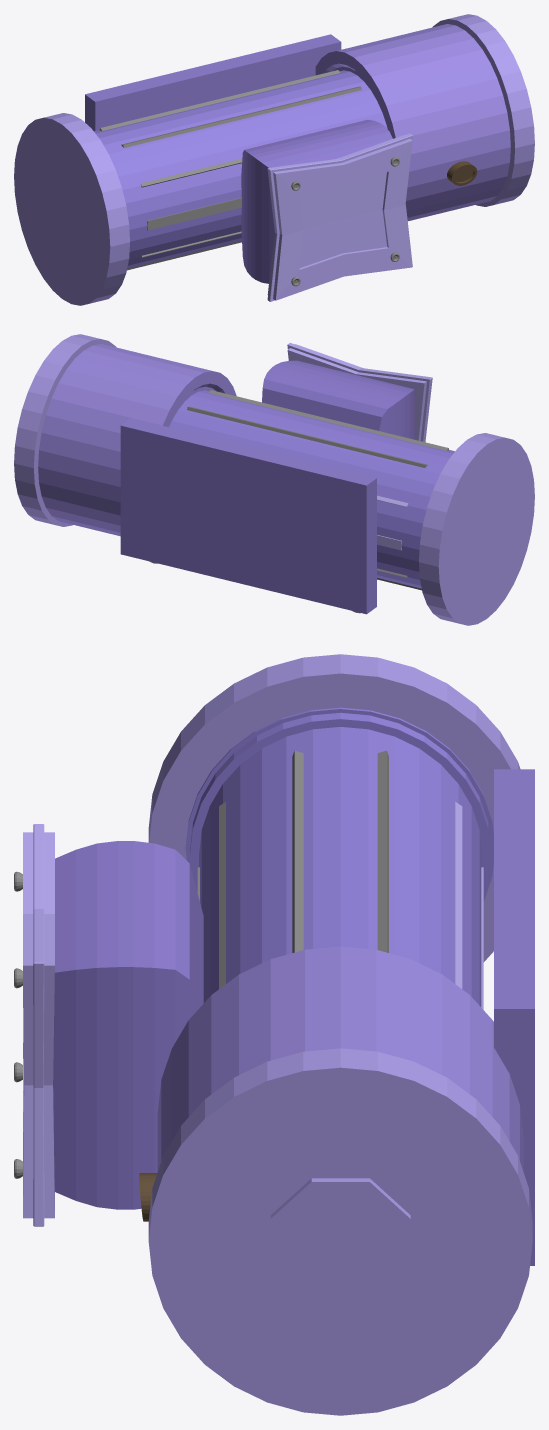
The model's file is bomba_usuario.glb.
3 renders of one model, top to bottom at view 1: azimuth 30°, elevation 25°; view 2: azimuth 150°, elevation 25°; view 3: azimuth 270°, elevation 25°, orthographic. The views are drawn at different scales.
Visible parts, largest first — view 1: Motor / carcasa, Voluta / cuerpo, Bomba / tapa de caja, Brida 1, Bomba / soporte, Bomba / caja superior, Brida 2, Motor / aleta 03, Motor / aleta 04, Motor / aleta 01, Cylinder, Motor / aleta 02; view 2: Bomba / soporte, Voluta / cuerpo, Brida 1, Motor / carcasa, Bomba / caja superior, Brida 2, Bomba / tapa de caja, Motor / aleta 04, Motor / aleta 03; view 3: Brida 2, Motor / carcasa, Bomba / caja superior, Voluta / cuerpo, Brida 1, Bomba / soporte, Bomba / tapa de caja, Motor / aleta 03, Motor / aleta 04, Motor / aleta 05, Motor / aleta 02.
Part boxes in pixels (left/top/right/bottom): Motor / carcasa: left=94, top=70, right=387, bottom=268; Voluta / cuerpo: left=315, top=24, right=510, bottom=221; Bomba / tapa de caja: left=267, top=133, right=412, bottom=301; Brida 1: left=14, top=113, right=129, bottom=305; Bomba / soporte: left=85, top=34, right=341, bottom=130; Bomba / caja superior: left=241, top=119, right=392, bottom=283; Brida 2: left=432, top=14, right=534, bottom=206; Motor / aleta 03: left=121, top=86, right=361, bottom=147; Motor / aleta 04: left=99, top=70, right=340, bottom=130; Motor / aleta 01: left=147, top=198, right=241, bottom=230; Cylinder: left=447, top=161, right=477, bottom=185; Motor / aleta 02: left=140, top=158, right=242, bottom=187; Bomba / soporte: left=120, top=418, right=376, bottom=614; Voluta / cuerpo: left=38, top=344, right=236, bottom=536; Brida 1: left=419, top=433, right=534, bottom=625; Motor / carcasa: left=169, top=390, right=454, bottom=588; Bomba / caja superior: left=262, top=360, right=414, bottom=439; Brida 2: left=14, top=334, right=116, bottom=526; Bomba / tapa de caja: left=287, top=342, right=432, bottom=442; Motor / aleta 04: left=187, top=406, right=427, bottom=467; Motor / aleta 03: left=208, top=390, right=449, bottom=450; Brida 2: left=148, top=1048, right=532, bottom=1415; Motor / carcasa: left=185, top=707, right=493, bottom=1006; Bomba / caja superior: left=53, top=841, right=203, bottom=1209; Voluta / cuerpo: left=157, top=946, right=523, bottom=1171; Brida 1: left=148, top=654, right=520, bottom=962; Bomba / soporte: left=494, top=769, right=534, bottom=1265; Bomba / tapa de caja: left=23, top=824, right=54, bottom=1226; Motor / aleta 03: left=292, top=750, right=303, bottom=952; Motor / aleta 04: left=377, top=750, right=388, bottom=952; Motor / aleta 05: left=455, top=802, right=462, bottom=988; Motor / aleta 02: left=219, top=802, right=225, bottom=988.
Bounding box in the file's own units: 2.16 × 0.84 × 1.14.
